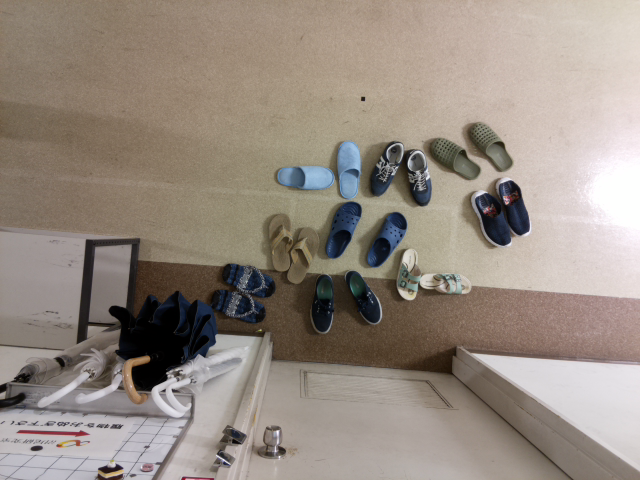Copy of Copy of Copy of Copy of Copy of Copy of Copy of Copy of Copy of Copy of: (318, 195, 366, 266), (339, 265, 388, 332), (359, 207, 406, 273), (282, 223, 321, 291), (300, 270, 339, 338), (259, 209, 297, 276), (388, 245, 425, 307), (416, 266, 475, 298)
Copy of Copy of Copy of Copy of Copy of Copy of Copy of Copy of Copy of shoe: (199, 281, 270, 328)
Copy of Copy of Copy of Copy of Copy of Copy of Copy of Copy of shoe: (207, 258, 282, 306)
Copy of Copy of Copy of Copy of Copy of Copy of Copy of shoe: (270, 158, 335, 198)
Copy of Copy of Copy of Copy of Copy of Copy of shoe: (328, 134, 373, 204)
Copy of Copy of Copy of Copy of Copy of shoe: (362, 133, 410, 200)
Copy of Copy of Copy of Copy of shoe: (397, 140, 439, 213)
Copy of Copy of Copy of Copy of umbrella: (3, 323, 120, 415)
Copy of Copy of Copy of shoe: (424, 133, 486, 182)
Copy of Copy of Copy of umbrella: (37, 335, 121, 414)
Copy of Copy of shoe: (465, 119, 518, 174)
Copy of Copy of umbrella: (71, 346, 128, 413)
Copy of shoe: (470, 184, 513, 253)
Copy of umbrella: (106, 294, 207, 410)
shoe: (492, 171, 535, 240)
umbrella: (147, 338, 252, 421)
